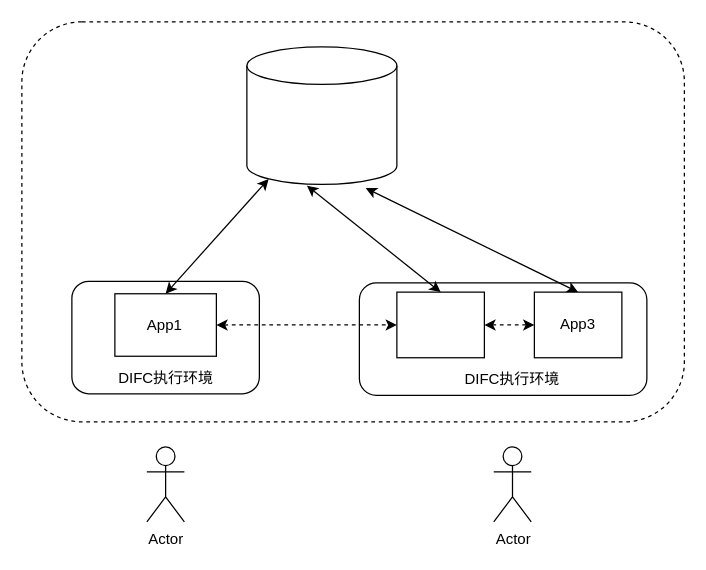
The diagram is 706 pixels wide and 570 high, and some of its shapes have lost their labels. Here are the shapes that lost their labels. From the top down, the centre of each, then its label:
the point at 321,115: 零信任网关
the point at 440,324: App2
